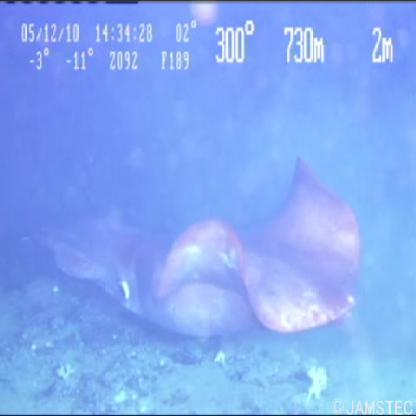Bio: (29, 150, 366, 347)
